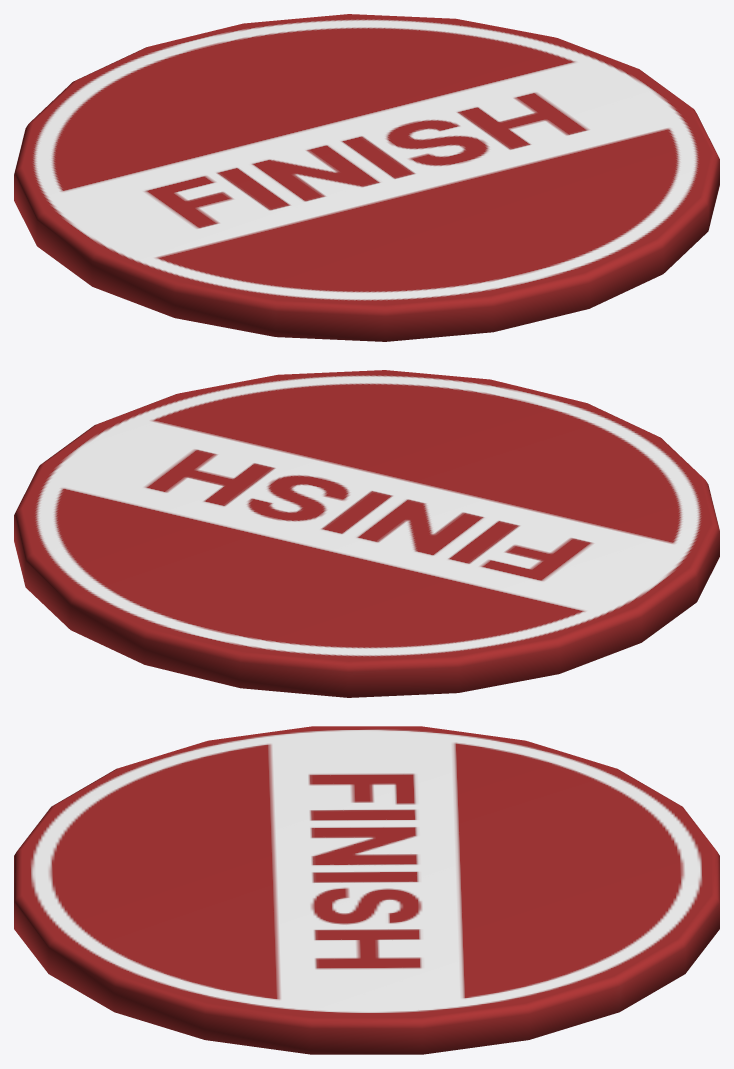
File: YutNori_FinishGround.fbx
3 renders of one model, top to bottom at view 1: azimuth 30°, elevation 25°; view 2: azimuth 150°, elevation 25°; view 3: azimuth 270°, elevation 25°, orthographic.
Visible parts, largest first — view 1: YutNori_FinishGround; view 2: YutNori_FinishGround; view 3: YutNori_FinishGround.
Boxes of the visible parts, left/top/right/bottom form: YutNori_FinishGround: left=14, top=14, right=719, bottom=341; YutNori_FinishGround: left=14, top=370, right=719, bottom=697; YutNori_FinishGround: left=14, top=726, right=719, bottom=1054.
Size of the model in its own units: 5.25 by 0.3493 by 5.25.
